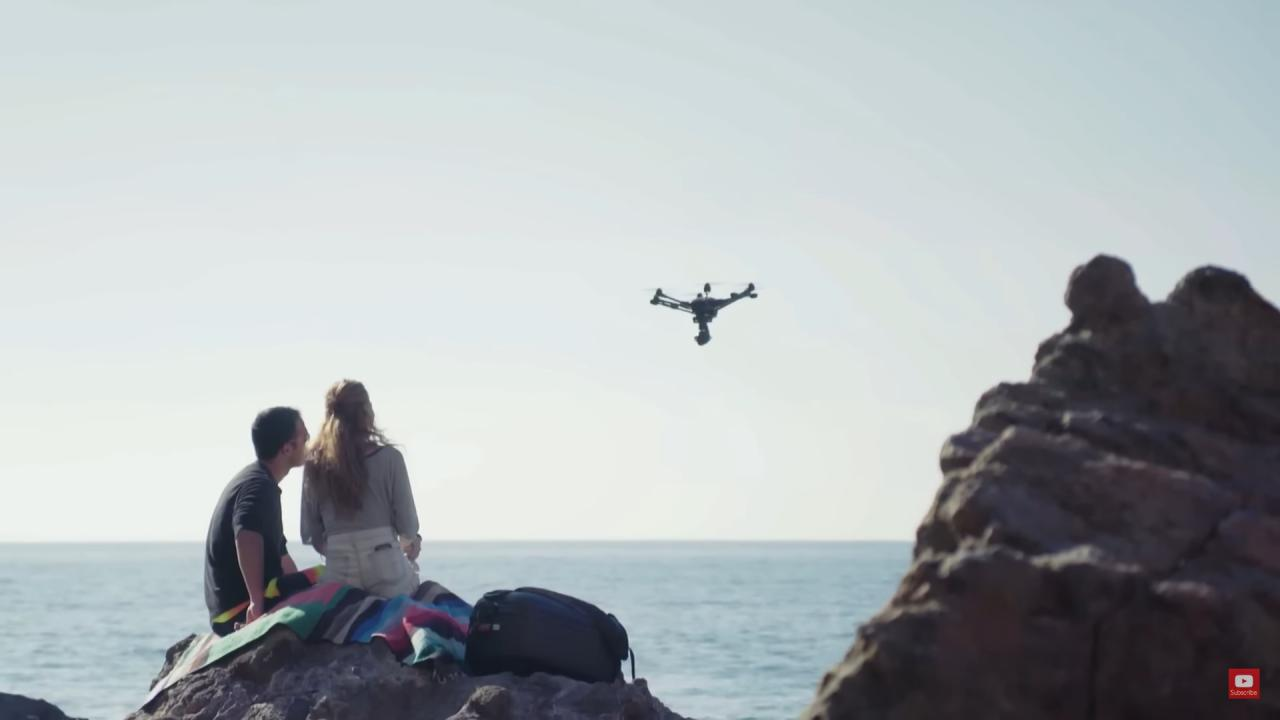Drone: (631, 270, 765, 354)
